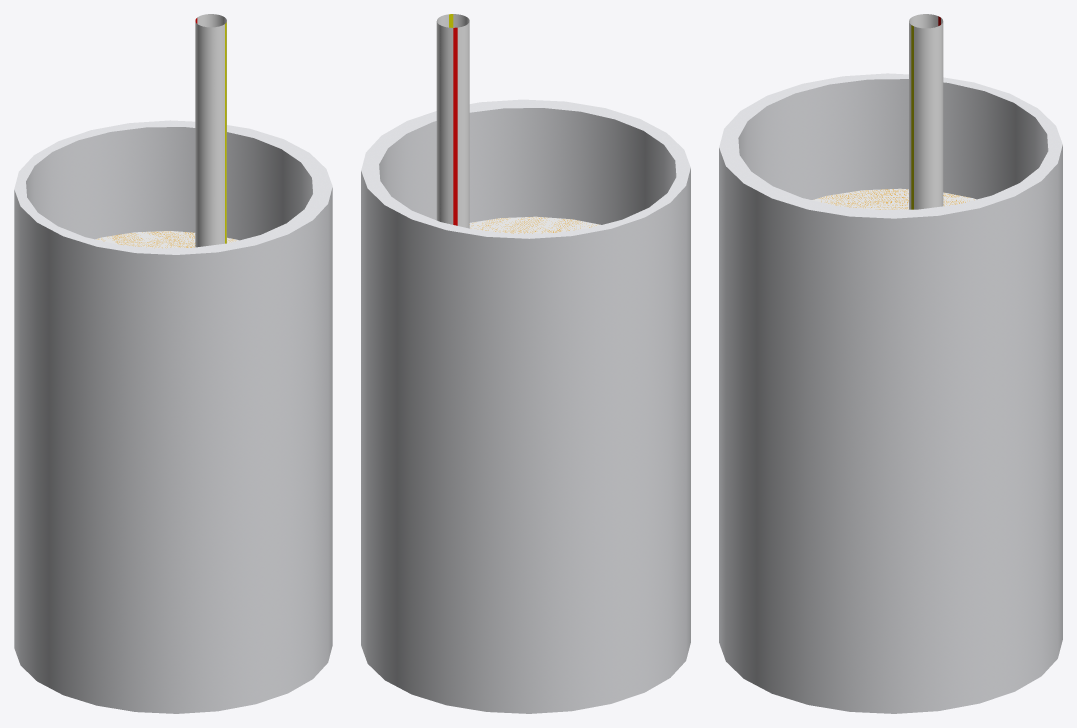
The model's file is orange_juice.dae.
The picture shows the model from 3 angles, left to right: view 1: azimuth 30°, elevation 25°; view 2: azimuth 150°, elevation 25°; view 3: azimuth 270°, elevation 25°; orthographic projection. The views are drawn at different scales.
Visible parts, largest first — view 1: SketchUp (×5); view 2: SketchUp (×6); view 3: SketchUp (×6).
Boxes of the visible parts, x1,y1,x2,y2 form: SketchUp (×5): (14,14,332,713); SketchUp (×6): (361,14,690,713); SketchUp (×6): (719,14,1062,713).
Size of the model in its own units: 726 by 726 by 1511.
7 materials, 1 textured.
